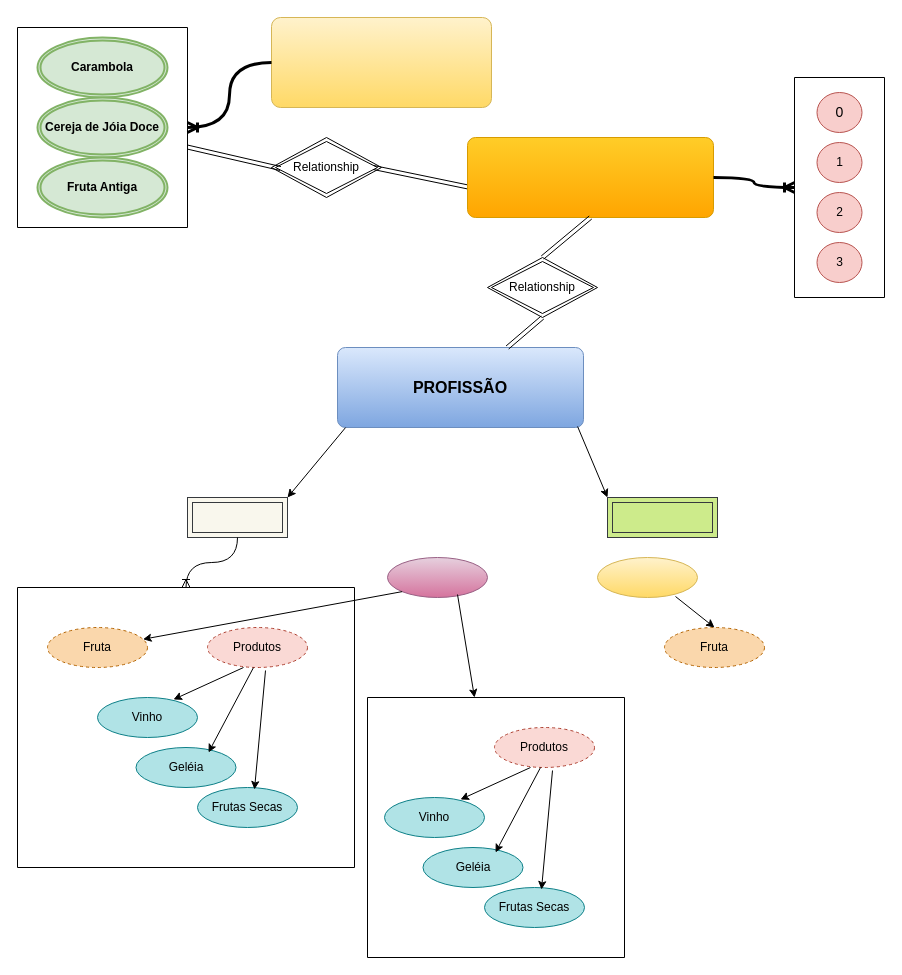
The diagram is 902 pixels wide and 975 high, and some of its shapes have lost their labels. The centre of each missing label's shape, as x and y in pixels:
ARTESÃO: the point at 437,577
CULTIVADOR: the point at 647,577
EntityFRUTAS: the point at 381,62
ESPECIALISTA: the point at 662,517
PADRÃO: the point at 237,517
QUALIDADE: the point at 590,177
